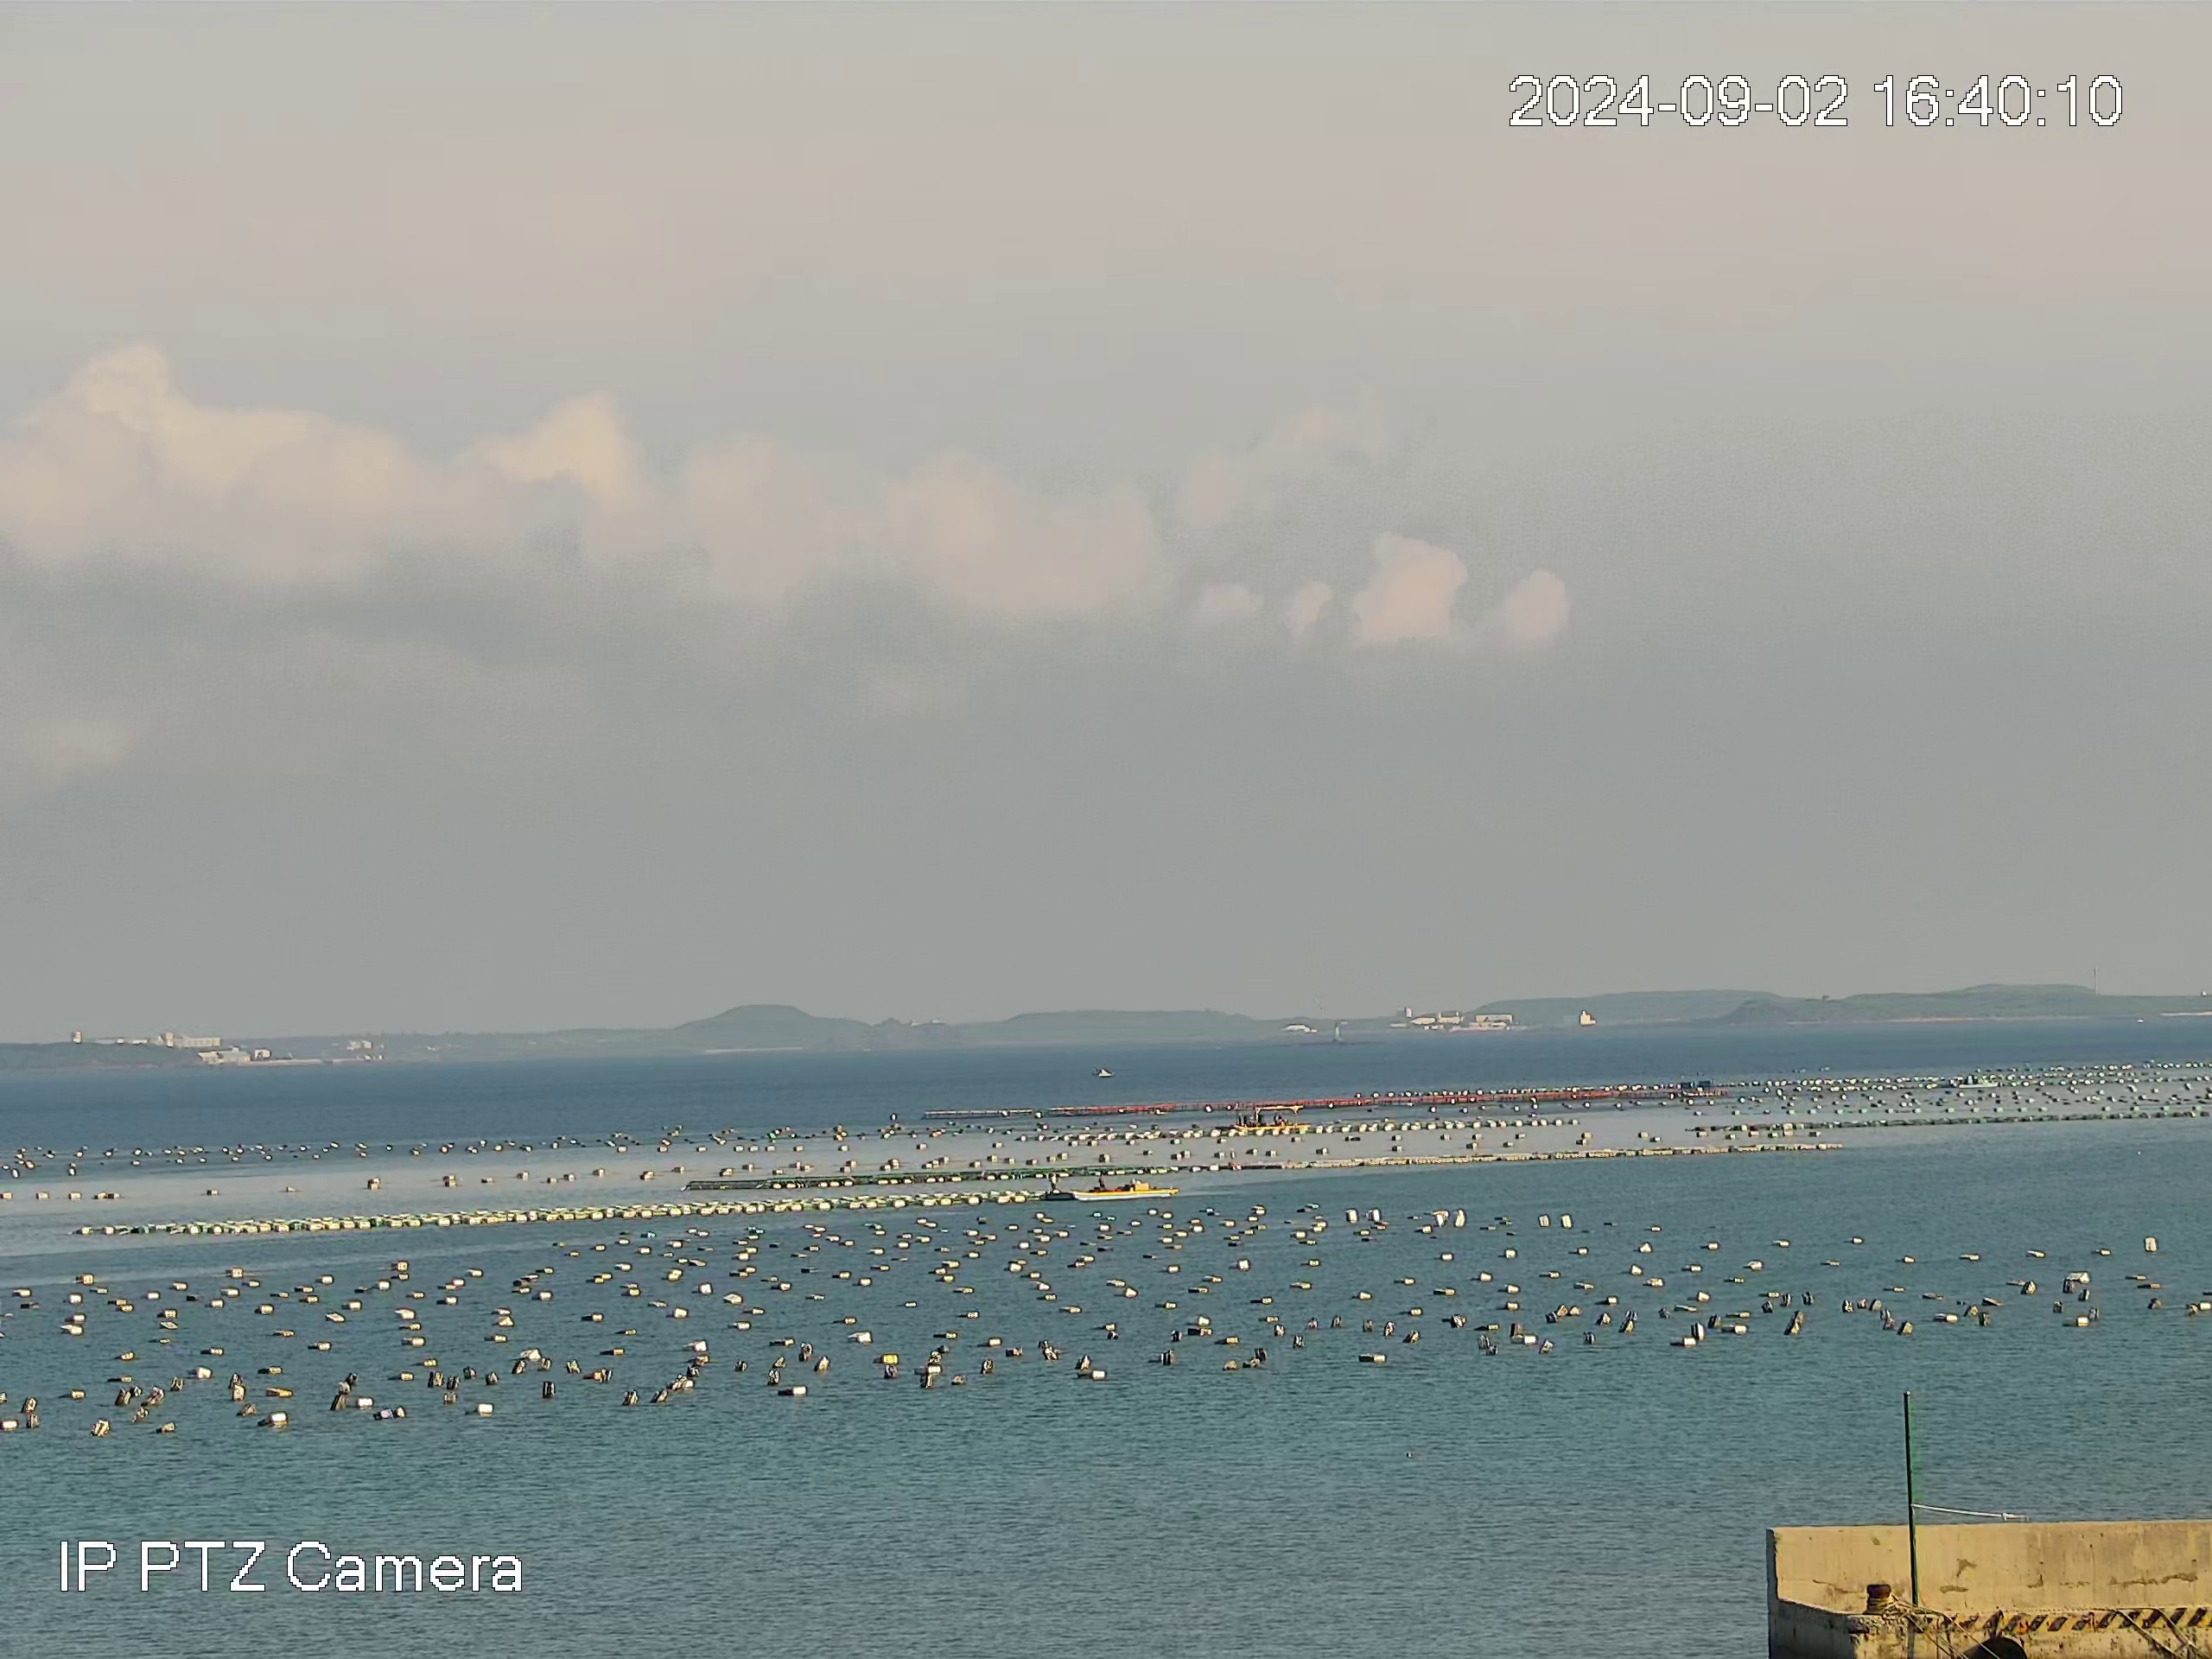boat: (1038, 1169, 1181, 1202), (1228, 1101, 1312, 1129), (1956, 1072, 2000, 1091)
